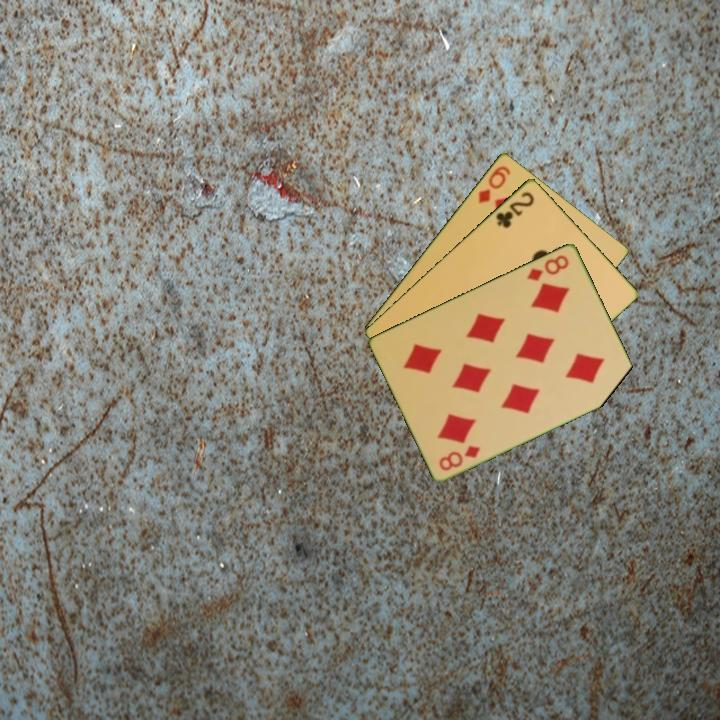2c: (492, 188, 537, 231)
6d: (475, 162, 513, 206)
8d: (523, 251, 572, 284), (435, 441, 483, 473)
